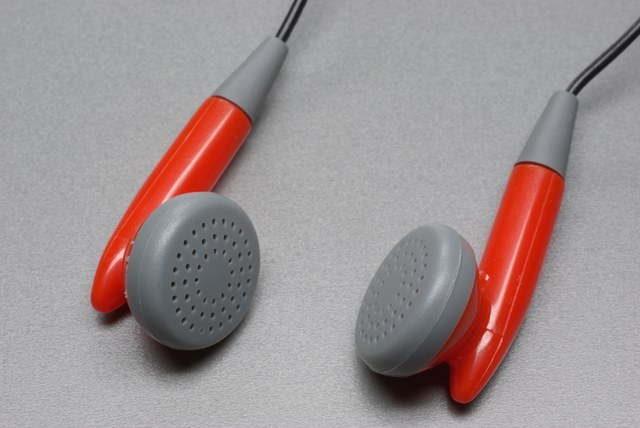Duracell AA Batteries: (32, 21, 608, 407)
